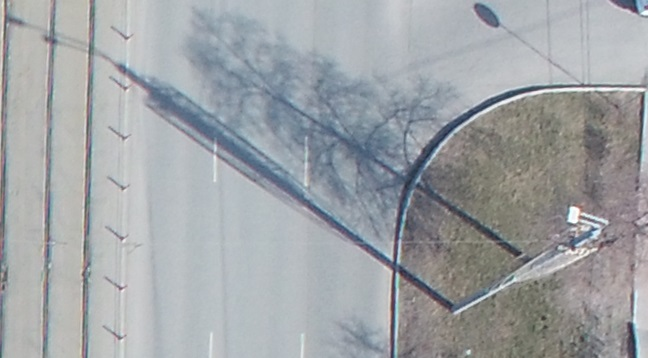opora: (350, 202, 609, 316)
